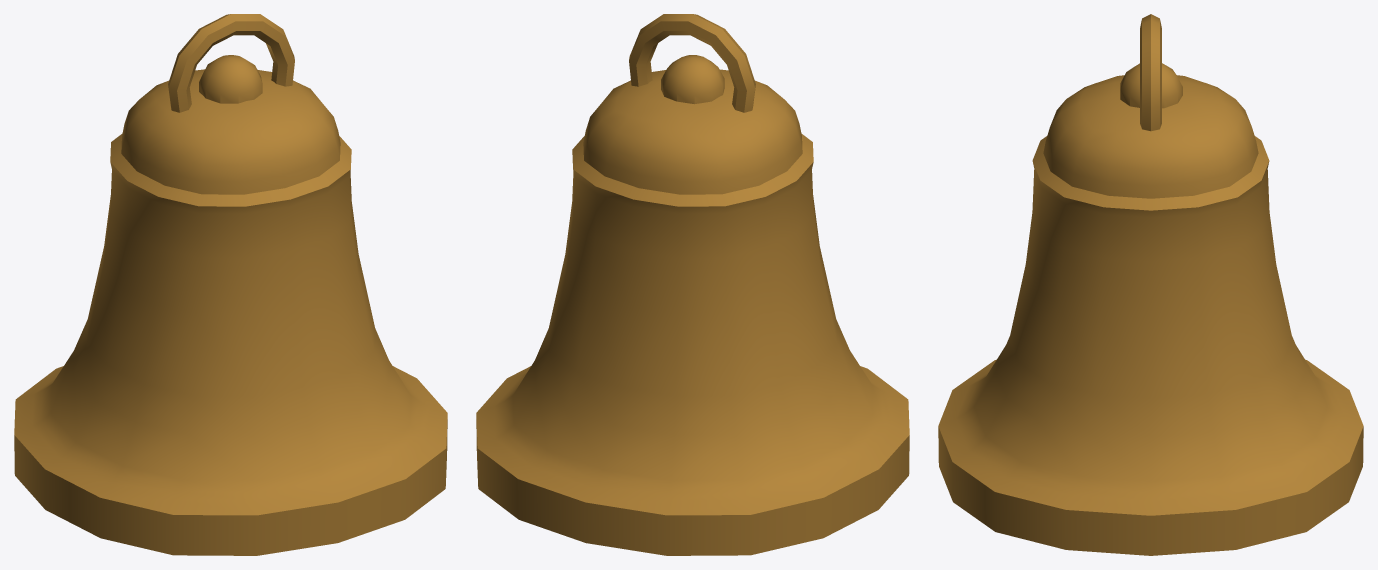
Rendered from bell.glb.
3 renders of one model, left to right at view 1: azimuth 30°, elevation 25°; view 2: azimuth 150°, elevation 25°; view 3: azimuth 270°, elevation 25°, orthographic.
Parts seen in each view (by area): view 1: Bell; view 2: Bell; view 3: Bell.
Boxes of the visible parts, x1,y1,x2,y2 form: Bell: (14, 14, 447, 555); Bell: (476, 14, 909, 555); Bell: (938, 14, 1363, 555).
Bounding box in the file's own units: 0.6332 × 0.7325 × 0.6332.
